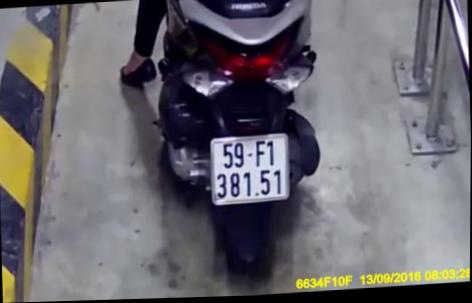LP: (210, 133, 292, 208)
